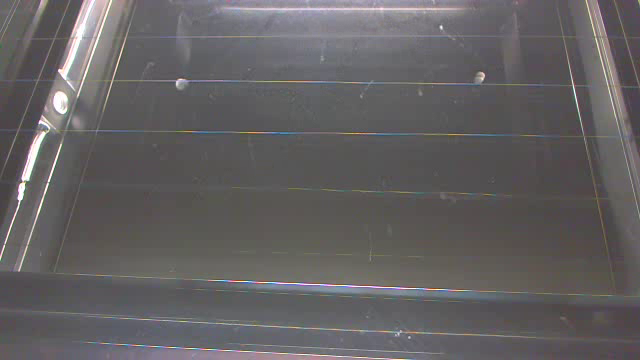alpha: (173, 77, 191, 92), (473, 71, 487, 85)
